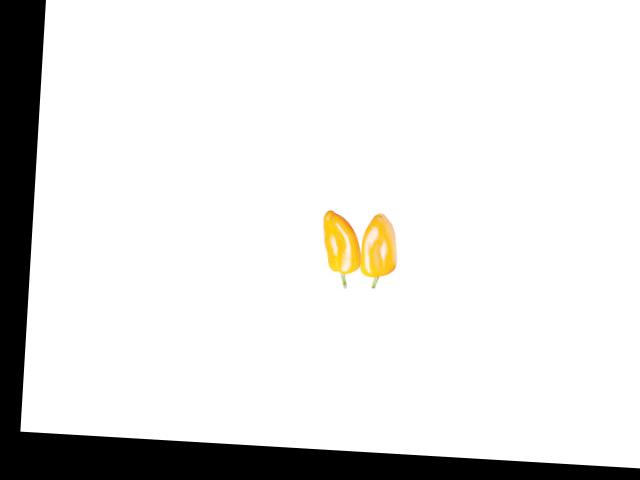bell_pepper: (356, 196, 408, 291)
